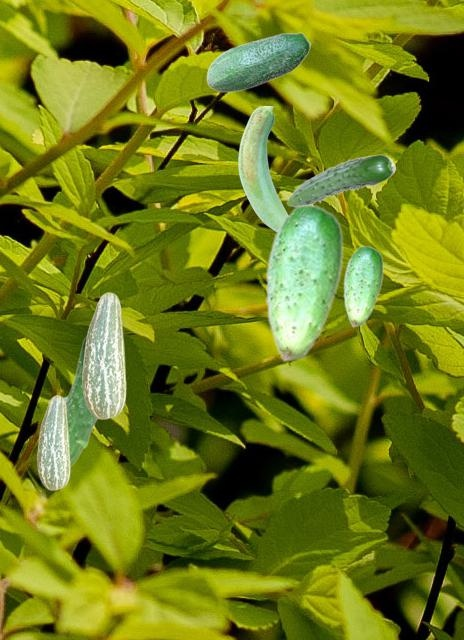cucumber: (265, 203, 342, 361), (206, 32, 310, 91), (238, 106, 287, 231), (286, 154, 395, 206), (82, 292, 125, 418), (65, 336, 98, 467), (343, 245, 382, 326), (37, 395, 69, 489)
